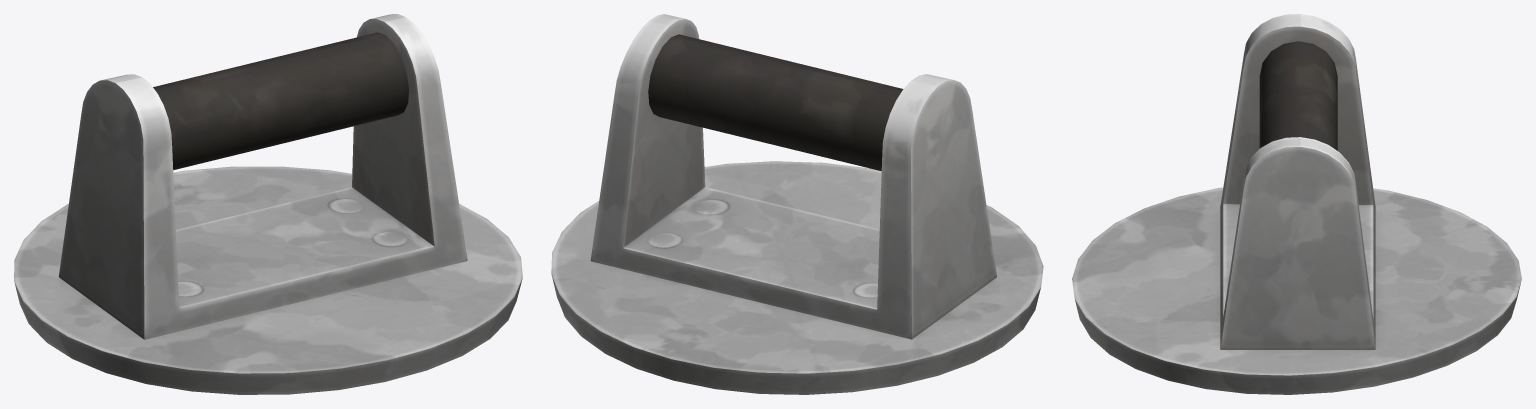
The model's file is SM_GrillPress.glb.
The picture shows the model from 3 angles, left to right: view 1: azimuth 30°, elevation 25°; view 2: azimuth 150°, elevation 25°; view 3: azimuth 270°, elevation 25°; orthographic projection. The views are drawn at different scales.
Visible parts, largest first — view 1: SM_GrillPress; view 2: SM_GrillPress; view 3: SM_GrillPress.
Boxes of the visible parts, left/top/right/bottom form: SM_GrillPress: left=14, top=14, right=522, bottom=394; SM_GrillPress: left=551, top=14, right=1043, bottom=394; SM_GrillPress: left=1072, top=14, right=1521, bottom=394.
Size of the model in its own units: 0.2301 by 0.1228 by 0.226.
Materials: 1 (1 with a texture image).
